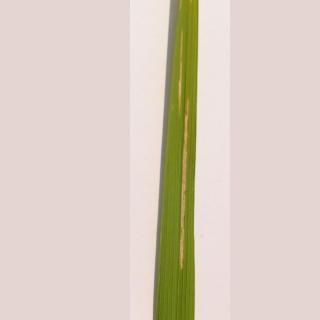Hawar-Daun: (164, 51, 198, 294)
